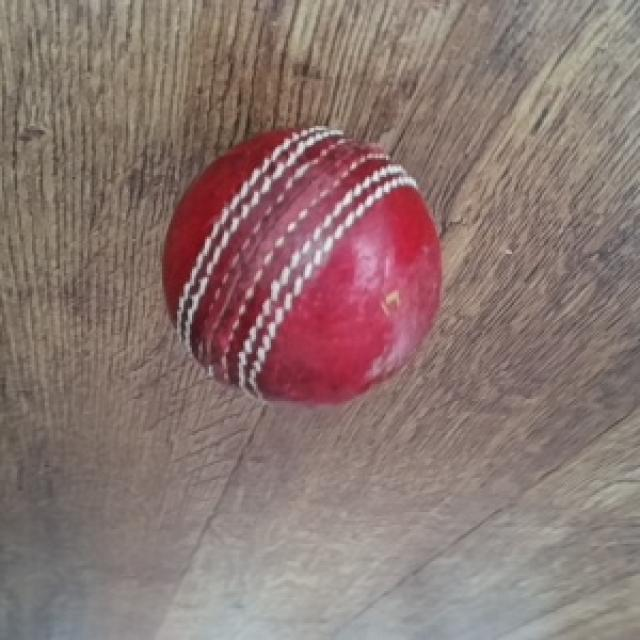ball: (160, 126, 444, 410)
